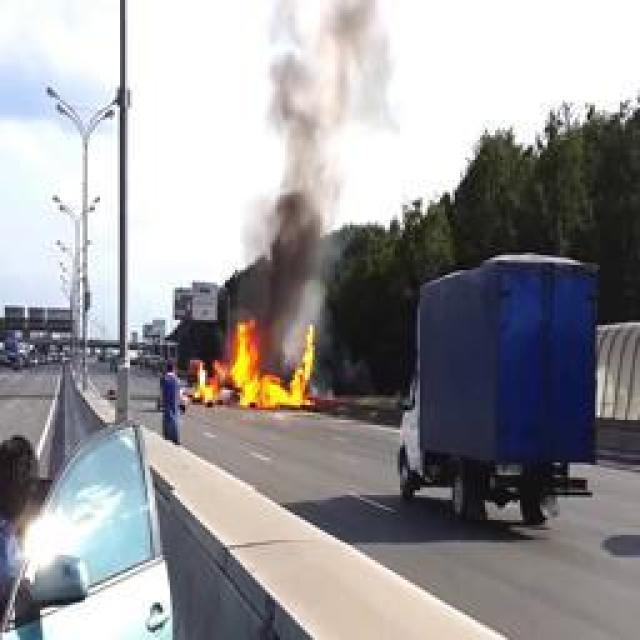Fire: (191, 318, 319, 408)
